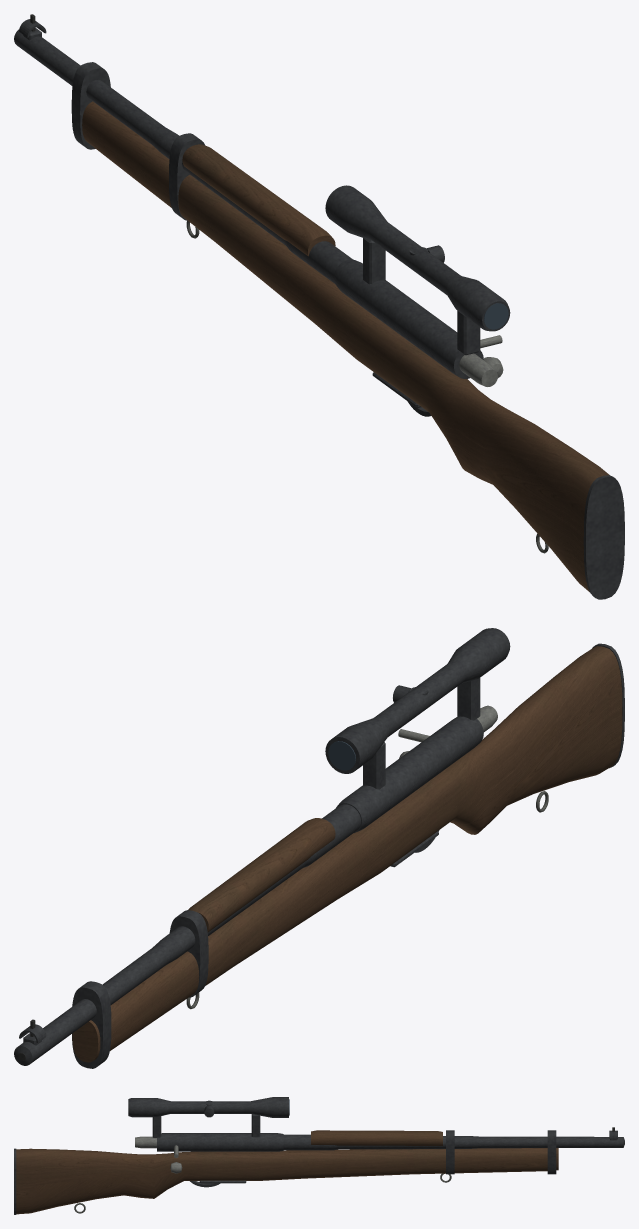
File: kar98zf.glb
3 renders of one model, top to bottom at view 1: azimuth 30°, elevation 25°; view 2: azimuth 150°, elevation 25°; view 3: azimuth 270°, elevation 25°, orthographic. The views are drawn at different scales.
Visible parts, largest first — view 1: FP_body, TP_body, WD_body, FP_bolt; view 2: FP_body, TP_body, FP_bolt, WD_body; view 3: FP_body, TP_body, FP_bolt, FP_mag.
Boxes of the visible parts, bbox=[...] form: FP_body: bbox=[14, 14, 624, 599]; TP_body: bbox=[16, 33, 624, 598]; WD_body: bbox=[80, 70, 624, 594]; FP_bolt: bbox=[459, 335, 503, 386]; FP_body: bbox=[14, 628, 624, 1068]; TP_body: bbox=[15, 644, 623, 1068]; FP_bolt: bbox=[398, 705, 497, 758]; WD_body: bbox=[21, 628, 507, 1055]; FP_body: bbox=[14, 1097, 624, 1214]; TP_body: bbox=[14, 1130, 623, 1214]; FP_bolt: bbox=[135, 1136, 182, 1173]; FP_mag: bbox=[199, 1180, 246, 1183].
Bounding box in the file's own units: 0.0775 × 0.232 × 1.11.
6 materials, 5 textured.
